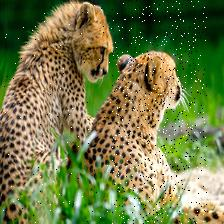Cheetha: (2, 5, 114, 224), (112, 0, 207, 224)
